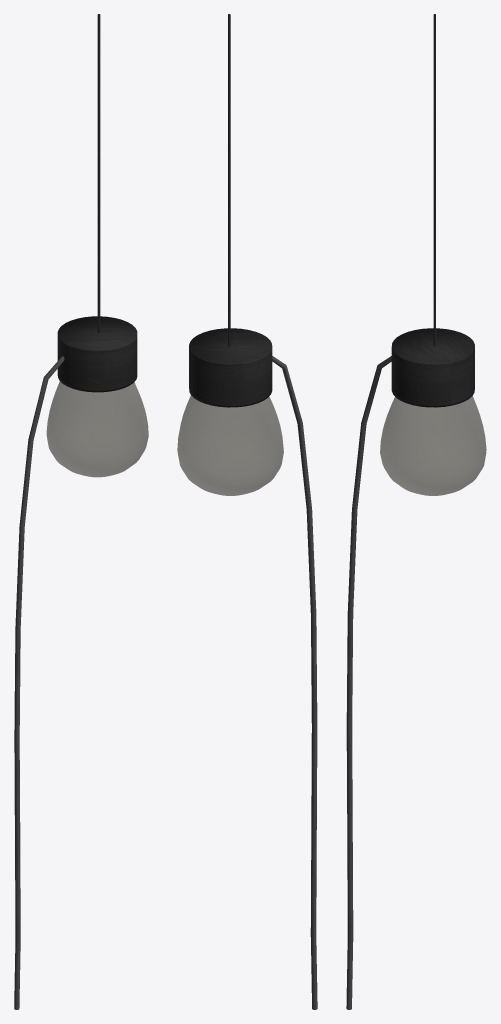
The model's file is LAMP 2.fbx.
The picture shows the model from 3 angles, left to right: view 1: azimuth 30°, elevation 25°; view 2: azimuth 210°, elevation 25°; view 3: azimuth 330°, elevation 25°; orthographic projection. The views are drawn at different scales.
Parts seen in each view (by area): view 1: LAMP 2; view 2: LAMP 2; view 3: LAMP 2.
Part boxes in pixels (x1,y1,x2,y2): LAMP 2: [14, 14, 148, 1009]; LAMP 2: [177, 14, 317, 1009]; LAMP 2: [346, 14, 486, 1009].
Size of the model in its own units: 0.1097 by 0.8026 by 0.0769.
